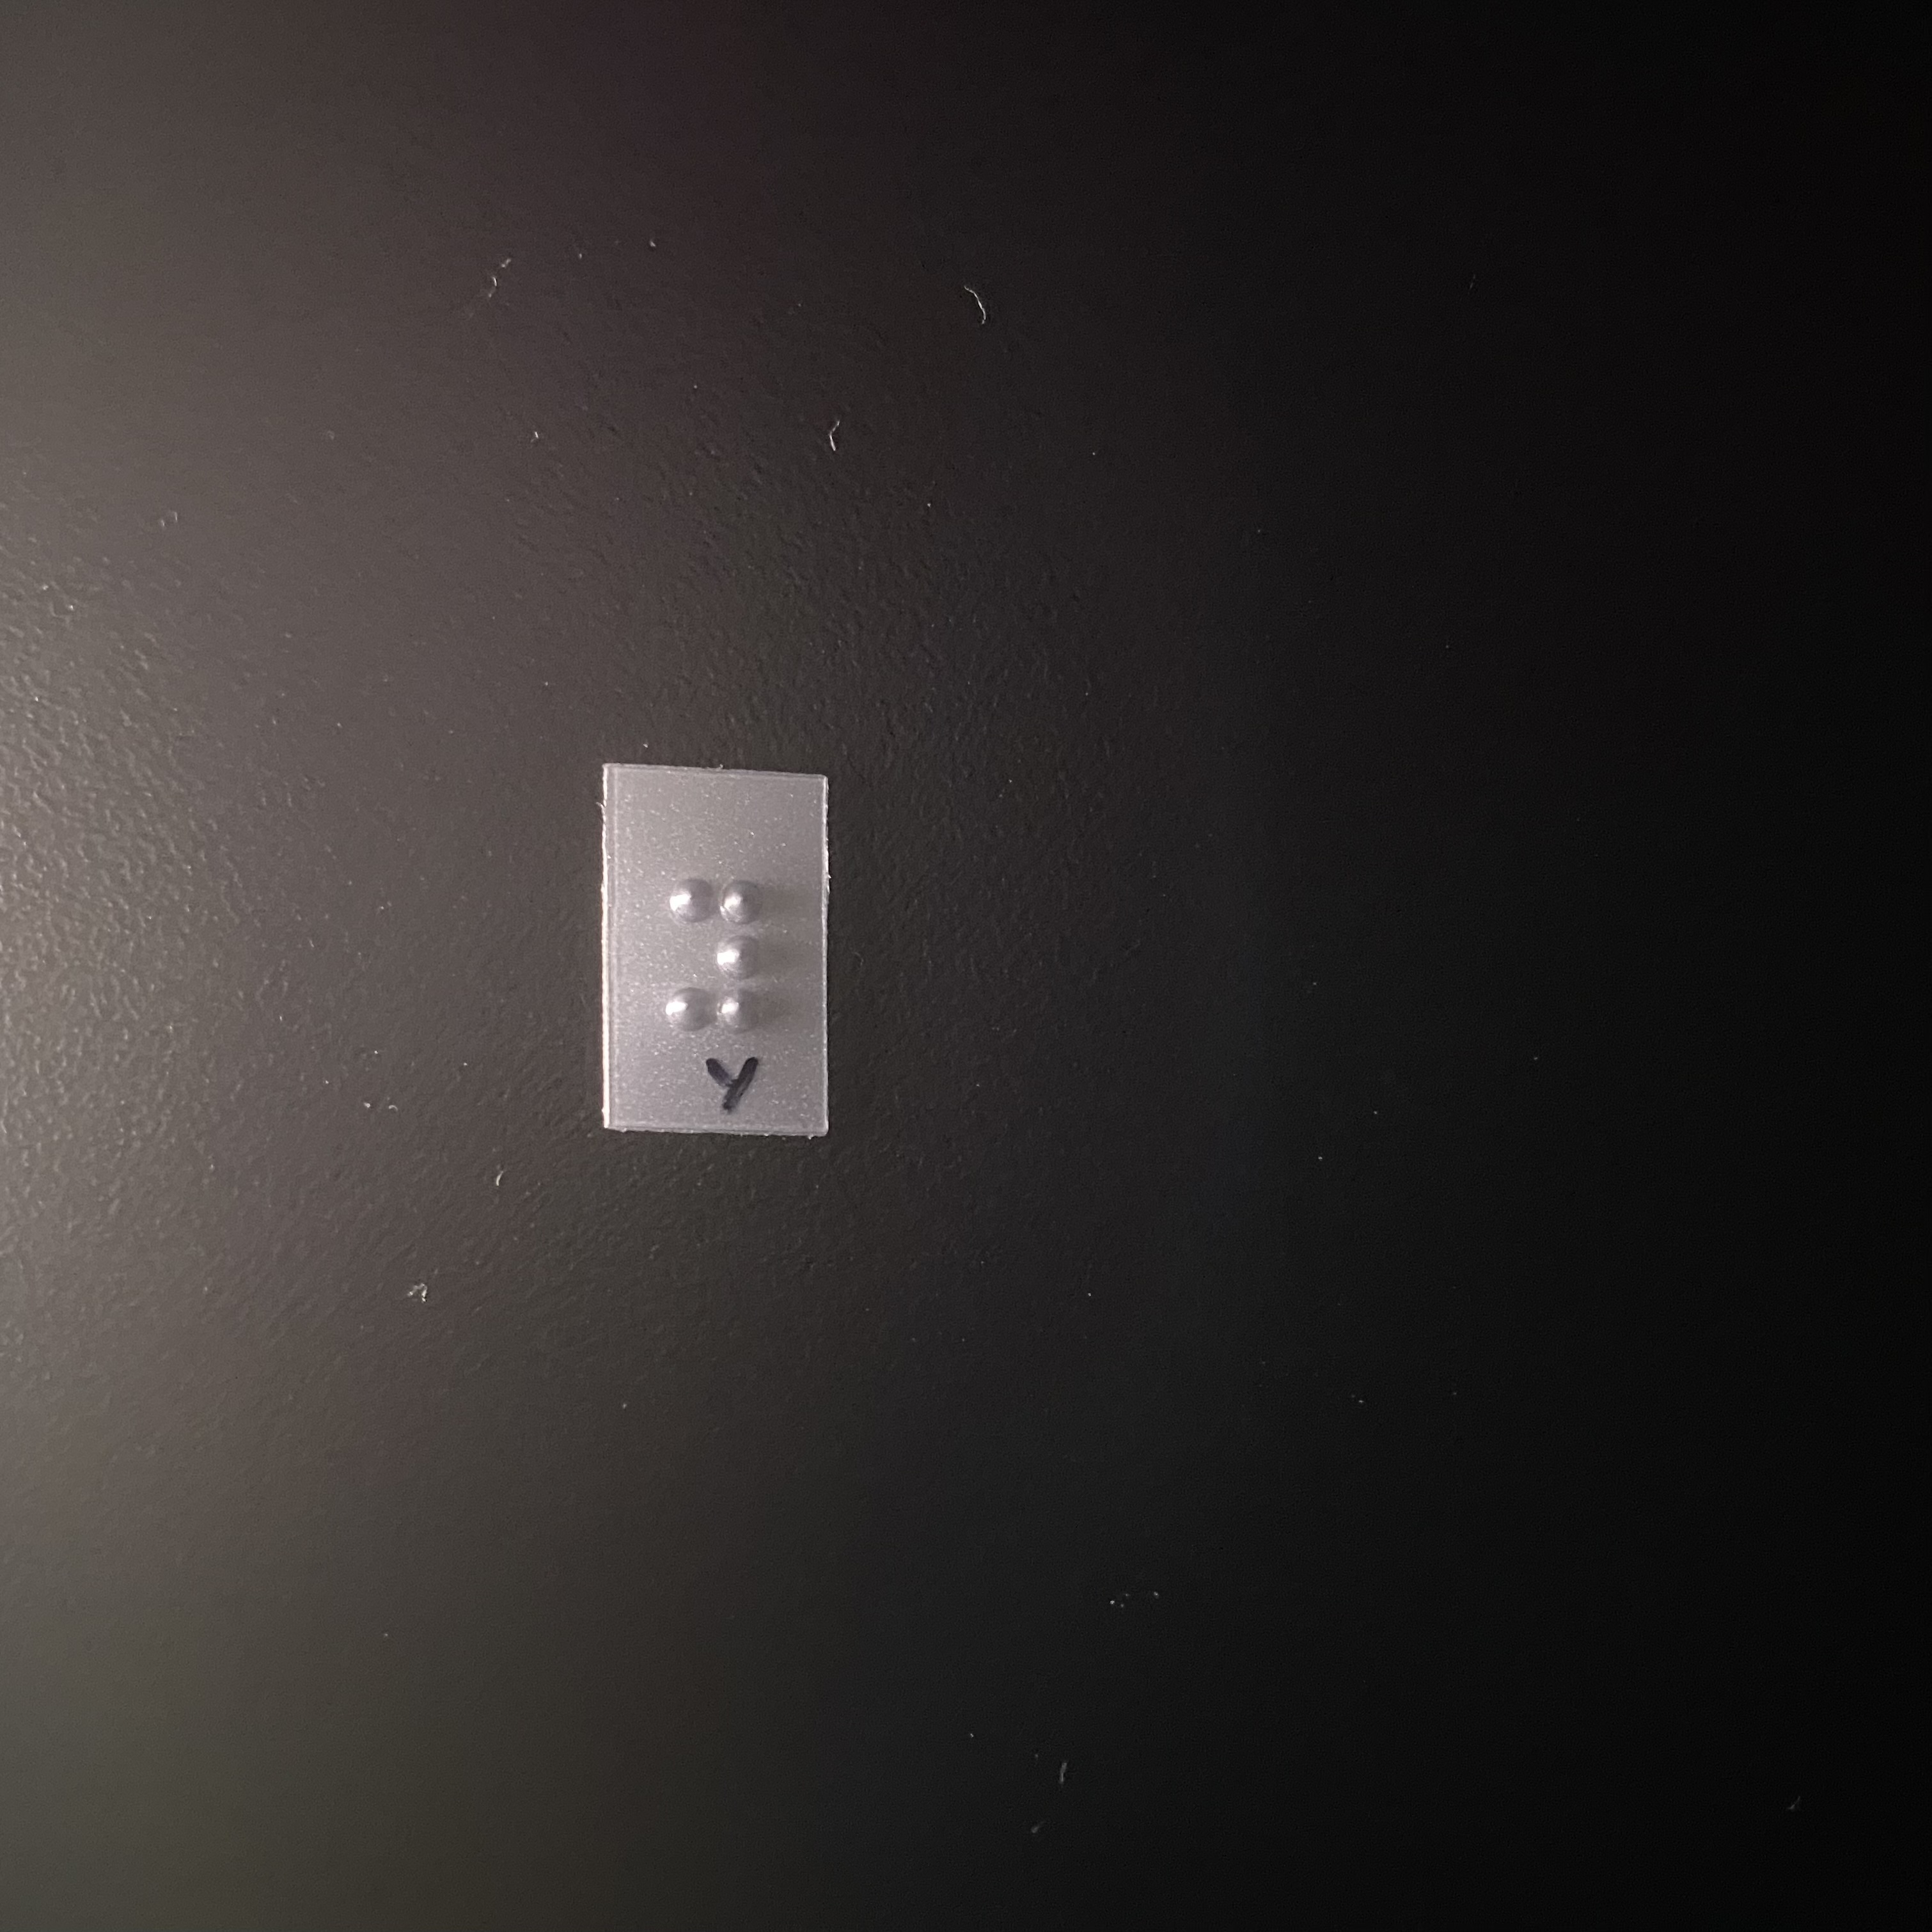y: (655, 863, 789, 1042)
